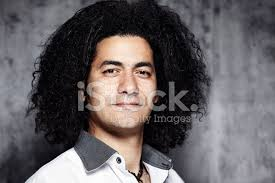middle_eastern_male: (82, 34, 168, 134)
